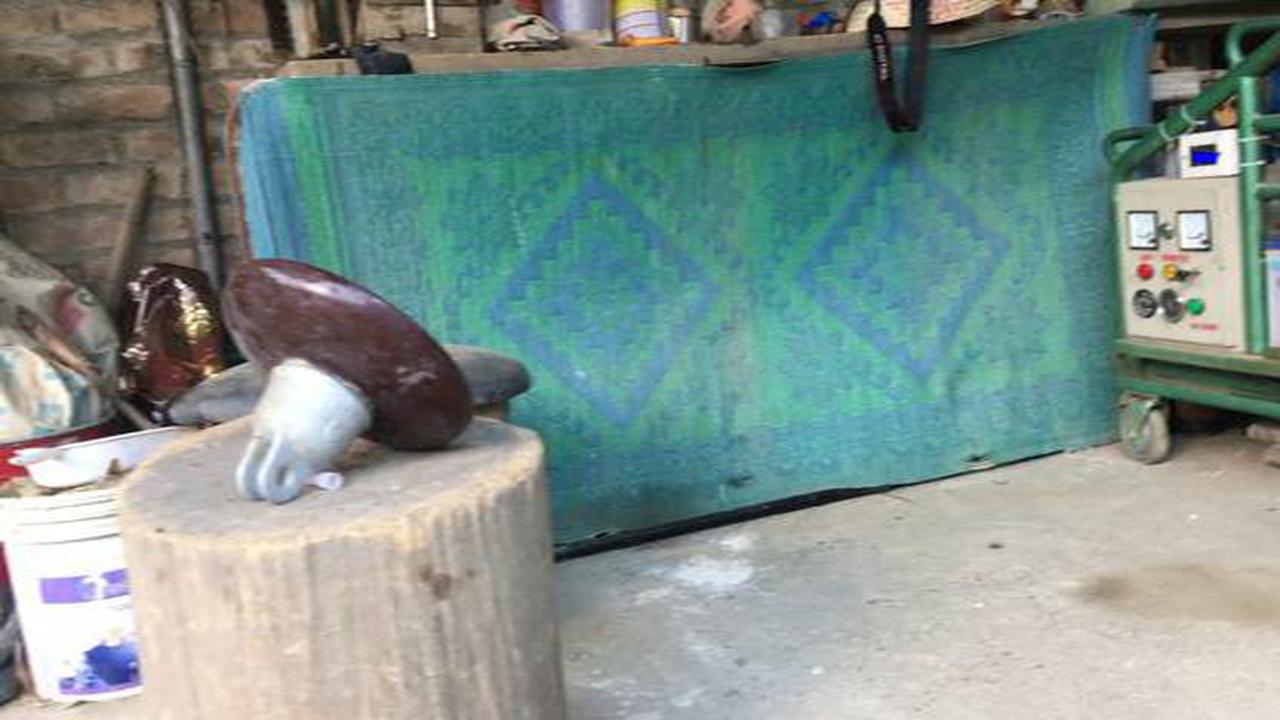insulator_disc: (216, 251, 488, 511)
